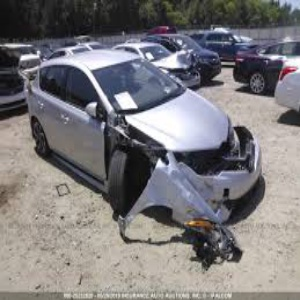bumper: (190, 130, 272, 201)
